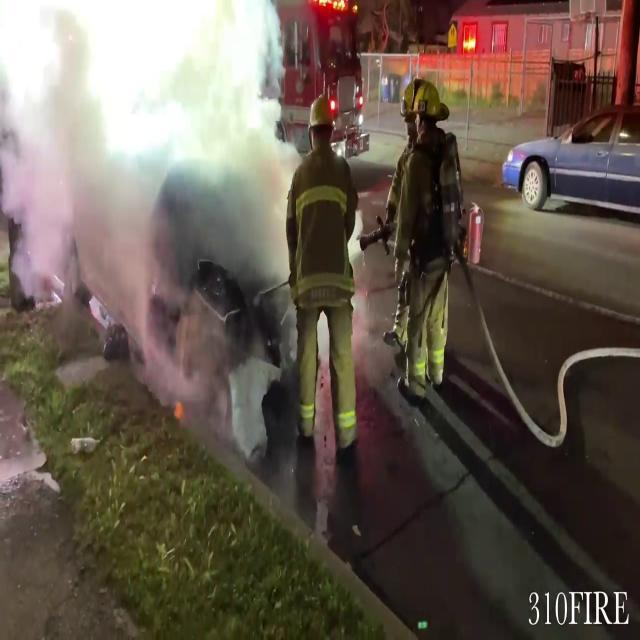Smoke: (0, 0, 296, 406)
